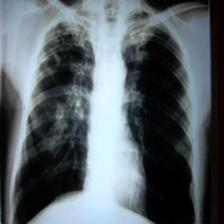tuberculosis: (10, 10, 199, 224)
